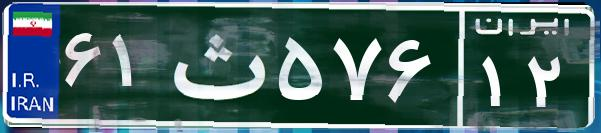1: (475, 38, 525, 113), (110, 28, 158, 105)
2: (525, 38, 570, 115)
5: (273, 28, 330, 110)
6: (385, 28, 445, 110), (57, 26, 110, 107)
7: (330, 28, 385, 110)
ث: (158, 15, 273, 115)
